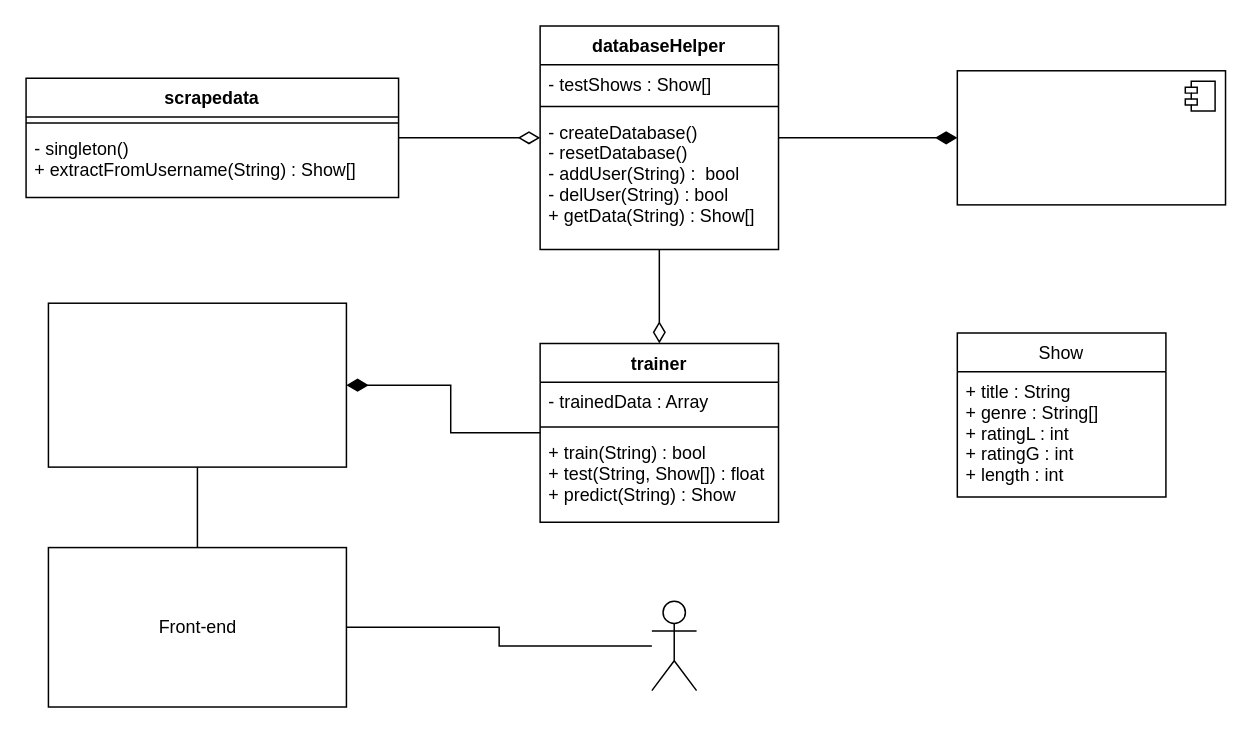
Image size: 1252x748. Some labels were removed from this diagram. The shapes that lost their labels are listed below. From the top down, each one's centre as x and y in pixels, then its label:
the point at 1091,137: database
the point at 196,384: Back-end
the point at 673,645: Actor
